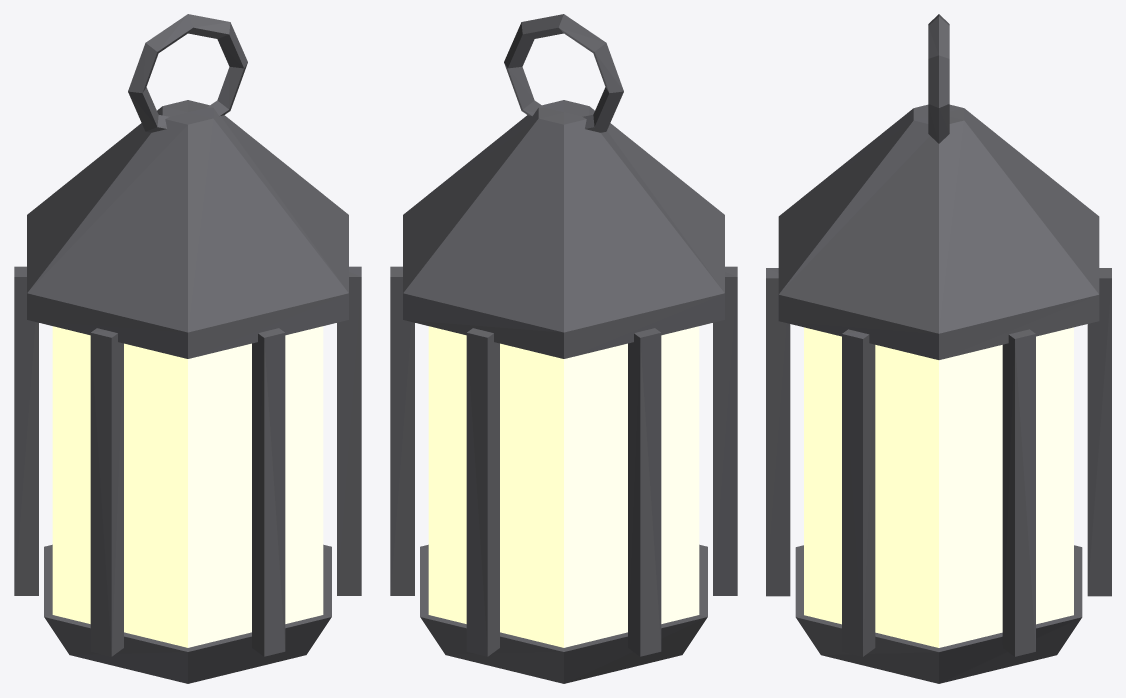
File: lantern.glb
The picture shows the model from 3 angles, left to right: view 1: azimuth 30°, elevation 25°; view 2: azimuth 150°, elevation 25°; view 3: azimuth 270°, elevation 25°; orthographic projection.
Parts seen in each view (by area): view 1: lantern; view 2: lantern; view 3: lantern.
Part boxes in pixels (x1,y1,x2,y2): lantern: [14, 14, 361, 683]; lantern: [390, 14, 737, 683]; lantern: [766, 14, 1111, 683].
Bounding box in the file's own units: 0.38 × 0.691 × 0.355.
